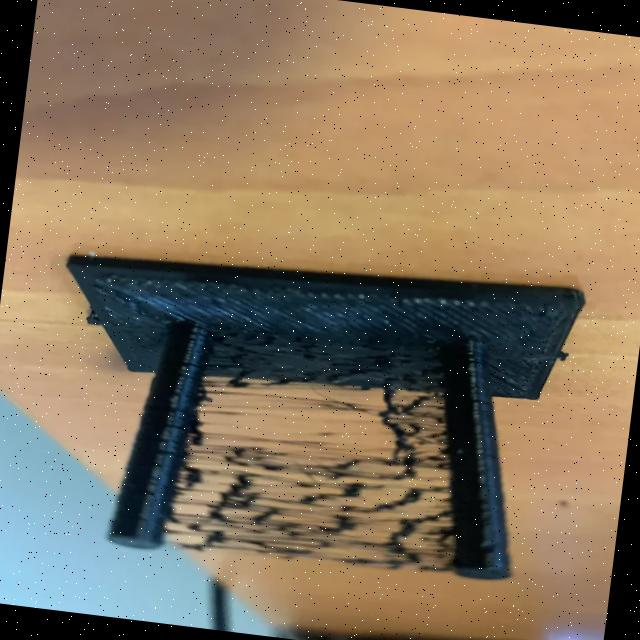stringing: (166, 374, 450, 572)
